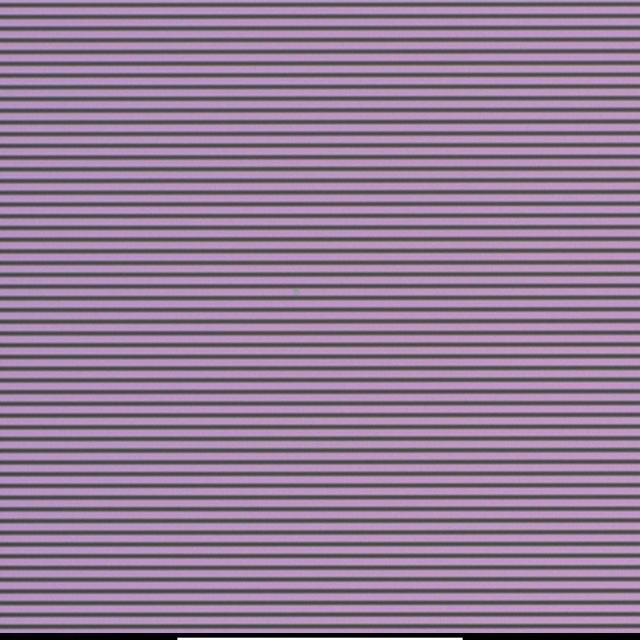nonvisual: (290, 284, 305, 298)
